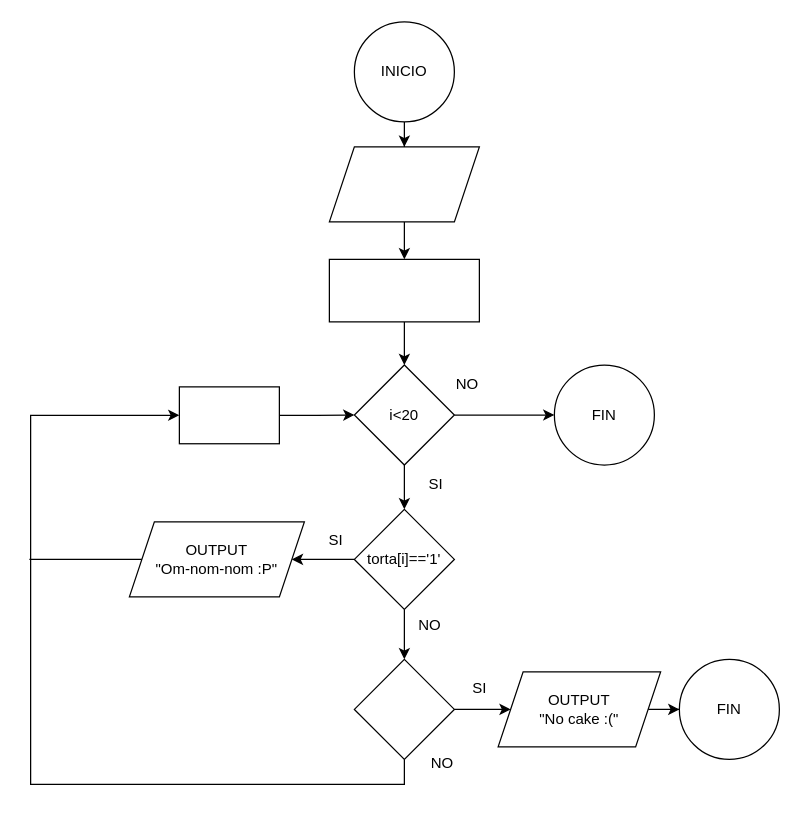
This 801x816 diagram has some shape labels left out. The centre of each missing label's shape, as x and y in pixels:
"++i" goes at point (228, 415).
"i=0" goes at point (403, 290).
"INPUT torta" goes at point (403, 184).
"torta[i]=='0'" goes at point (403, 708).
